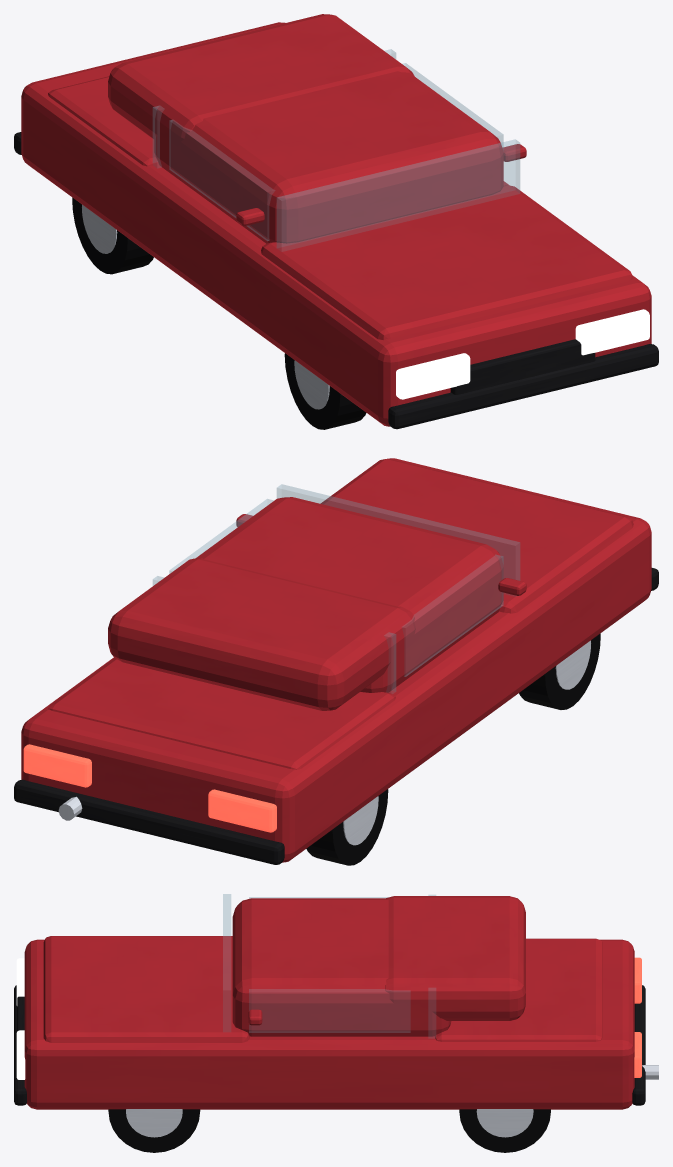
File: car_coupe.glb
3 renders of one model, top to bottom at view 1: azimuth 30°, elevation 25°; view 2: azimuth 150°, elevation 25°; view 3: azimuth 270°, elevation 25°, orthographic. The views are drawn at different scales.
Parts seen in each view (by area): view 1: car_coupe_body_lower, car_coupe_cabin, car_coupe_bonnet, car_coupe_fastback, car_coupe_glass_front, car_coupe_bumper_front, car_coupe_glass_side_l, car_coupe_boot, car_coupe_grille, car_coupe_headlight_l, car_coupe_headlight_r, tyre_fl (+4 smaller); view 2: car_coupe_body_lower, car_coupe_fastback, car_coupe_cabin, car_coupe_bonnet, car_coupe_boot, car_coupe_bumper_rear, car_coupe_glass_side_l, car_coupe_glass_front, car_coupe_taillight_r, car_coupe_taillight_l, tyre_fl, tyre_rl (+3 smaller); view 3: car_coupe_body_lower, car_coupe_cabin, car_coupe_bonnet, car_coupe_fastback, car_coupe_boot, car_coupe_glass_side_r, tyre_rr, tyre_fr, hub_rr, hub_fr, car_coupe_glass_front, car_coupe_bumper_rear (+2 smaller).
Boxes of the visible parts, box(x1,y1,x2,y2) form: car_coupe_body_lower: box(21, 22, 651, 426); car_coupe_cabin: box(154, 71, 503, 243); car_coupe_bonnet: box(261, 185, 633, 339); car_coupe_fastback: box(108, 14, 414, 151); car_coupe_glass_front: box(277, 139, 519, 251); car_coupe_bumper_front: box(388, 344, 658, 429); car_coupe_glass_side_l: box(169, 120, 274, 240); car_coupe_boot: box(48, 76, 158, 166); car_coupe_grille: box(450, 339, 595, 394); car_coupe_headlight_l: box(396, 353, 470, 399); car_coupe_headlight_r: box(575, 309, 649, 355); tyre_fl: box(284, 353, 366, 429); car_coupe_body_lower: box(21, 458, 651, 862); car_coupe_fastback: box(108, 558, 415, 710); car_coupe_cabin: box(195, 497, 503, 692); car_coupe_bonnet: box(320, 459, 633, 613); car_coupe_boot: box(48, 658, 395, 769); car_coupe_bumper_rear: box(14, 779, 284, 864); car_coupe_glass_side_l: box(402, 555, 503, 676); car_coupe_glass_front: box(277, 484, 519, 596); car_coupe_taillight_r: box(23, 744, 91, 787); car_coupe_taillight_l: box(208, 789, 276, 832); tyre_fl: box(519, 633, 600, 709); tyre_rl: box(306, 789, 388, 865); car_coupe_body_lower: box(24, 939, 634, 1109); car_coupe_cabin: box(232, 898, 451, 1036); car_coupe_bonnet: box(43, 936, 249, 1042); car_coupe_fastback: box(385, 896, 525, 1020); car_coupe_boot: box(435, 938, 602, 1041); car_coupe_glass_side_r: box(249, 989, 410, 1032); tyre_rr: box(459, 1109, 550, 1152); tyre_fr: box(108, 1109, 200, 1152); hub_rr: box(476, 1109, 533, 1137); hub_fr: box(126, 1109, 182, 1137); car_coupe_glass_front: box(223, 894, 230, 1031); car_coupe_bumper_rear: box(632, 985, 645, 1105).
Size of the model in its own units: 2.01 by 1.33 by 4.78.
35 materials, 35 textured.
